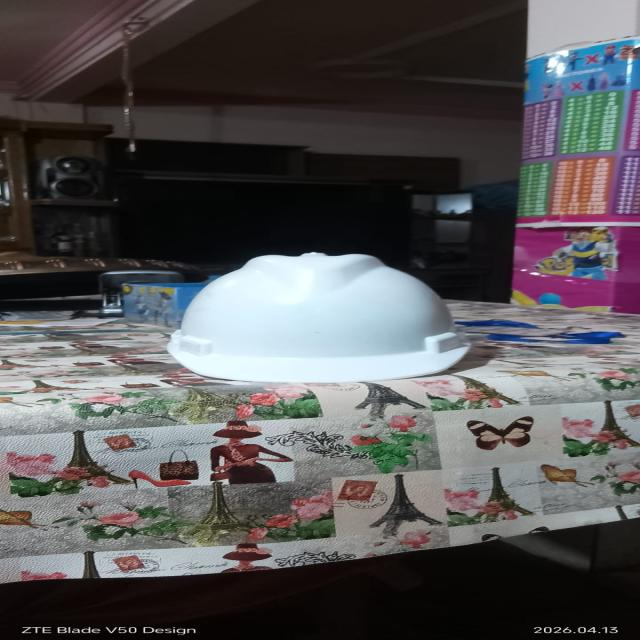sin_casco: (155, 235, 493, 396)
